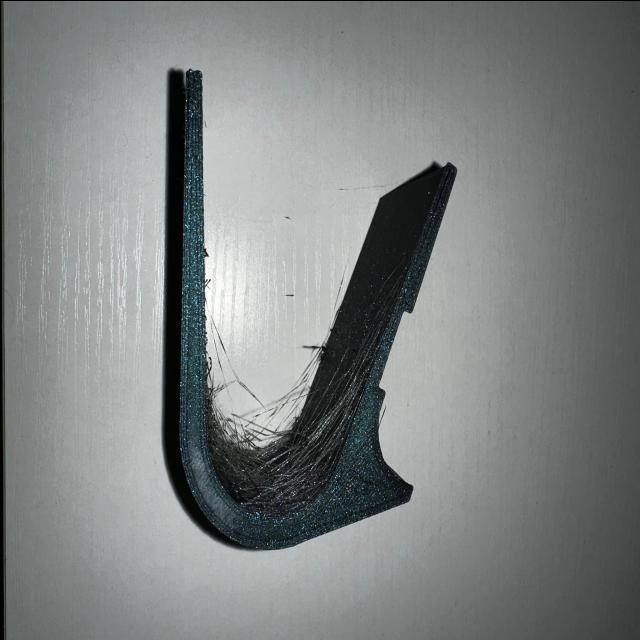stringing: (249, 456, 283, 502), (312, 412, 341, 454), (220, 432, 248, 475), (284, 451, 314, 491), (335, 378, 356, 418), (248, 420, 280, 446)
